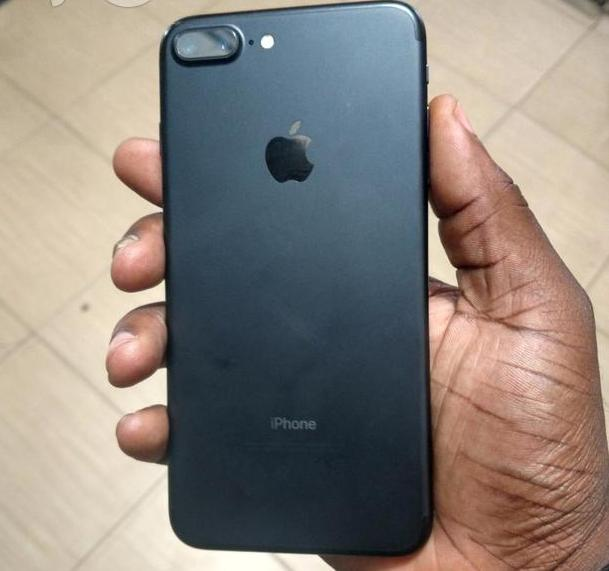apple: (246, 101, 326, 201)
